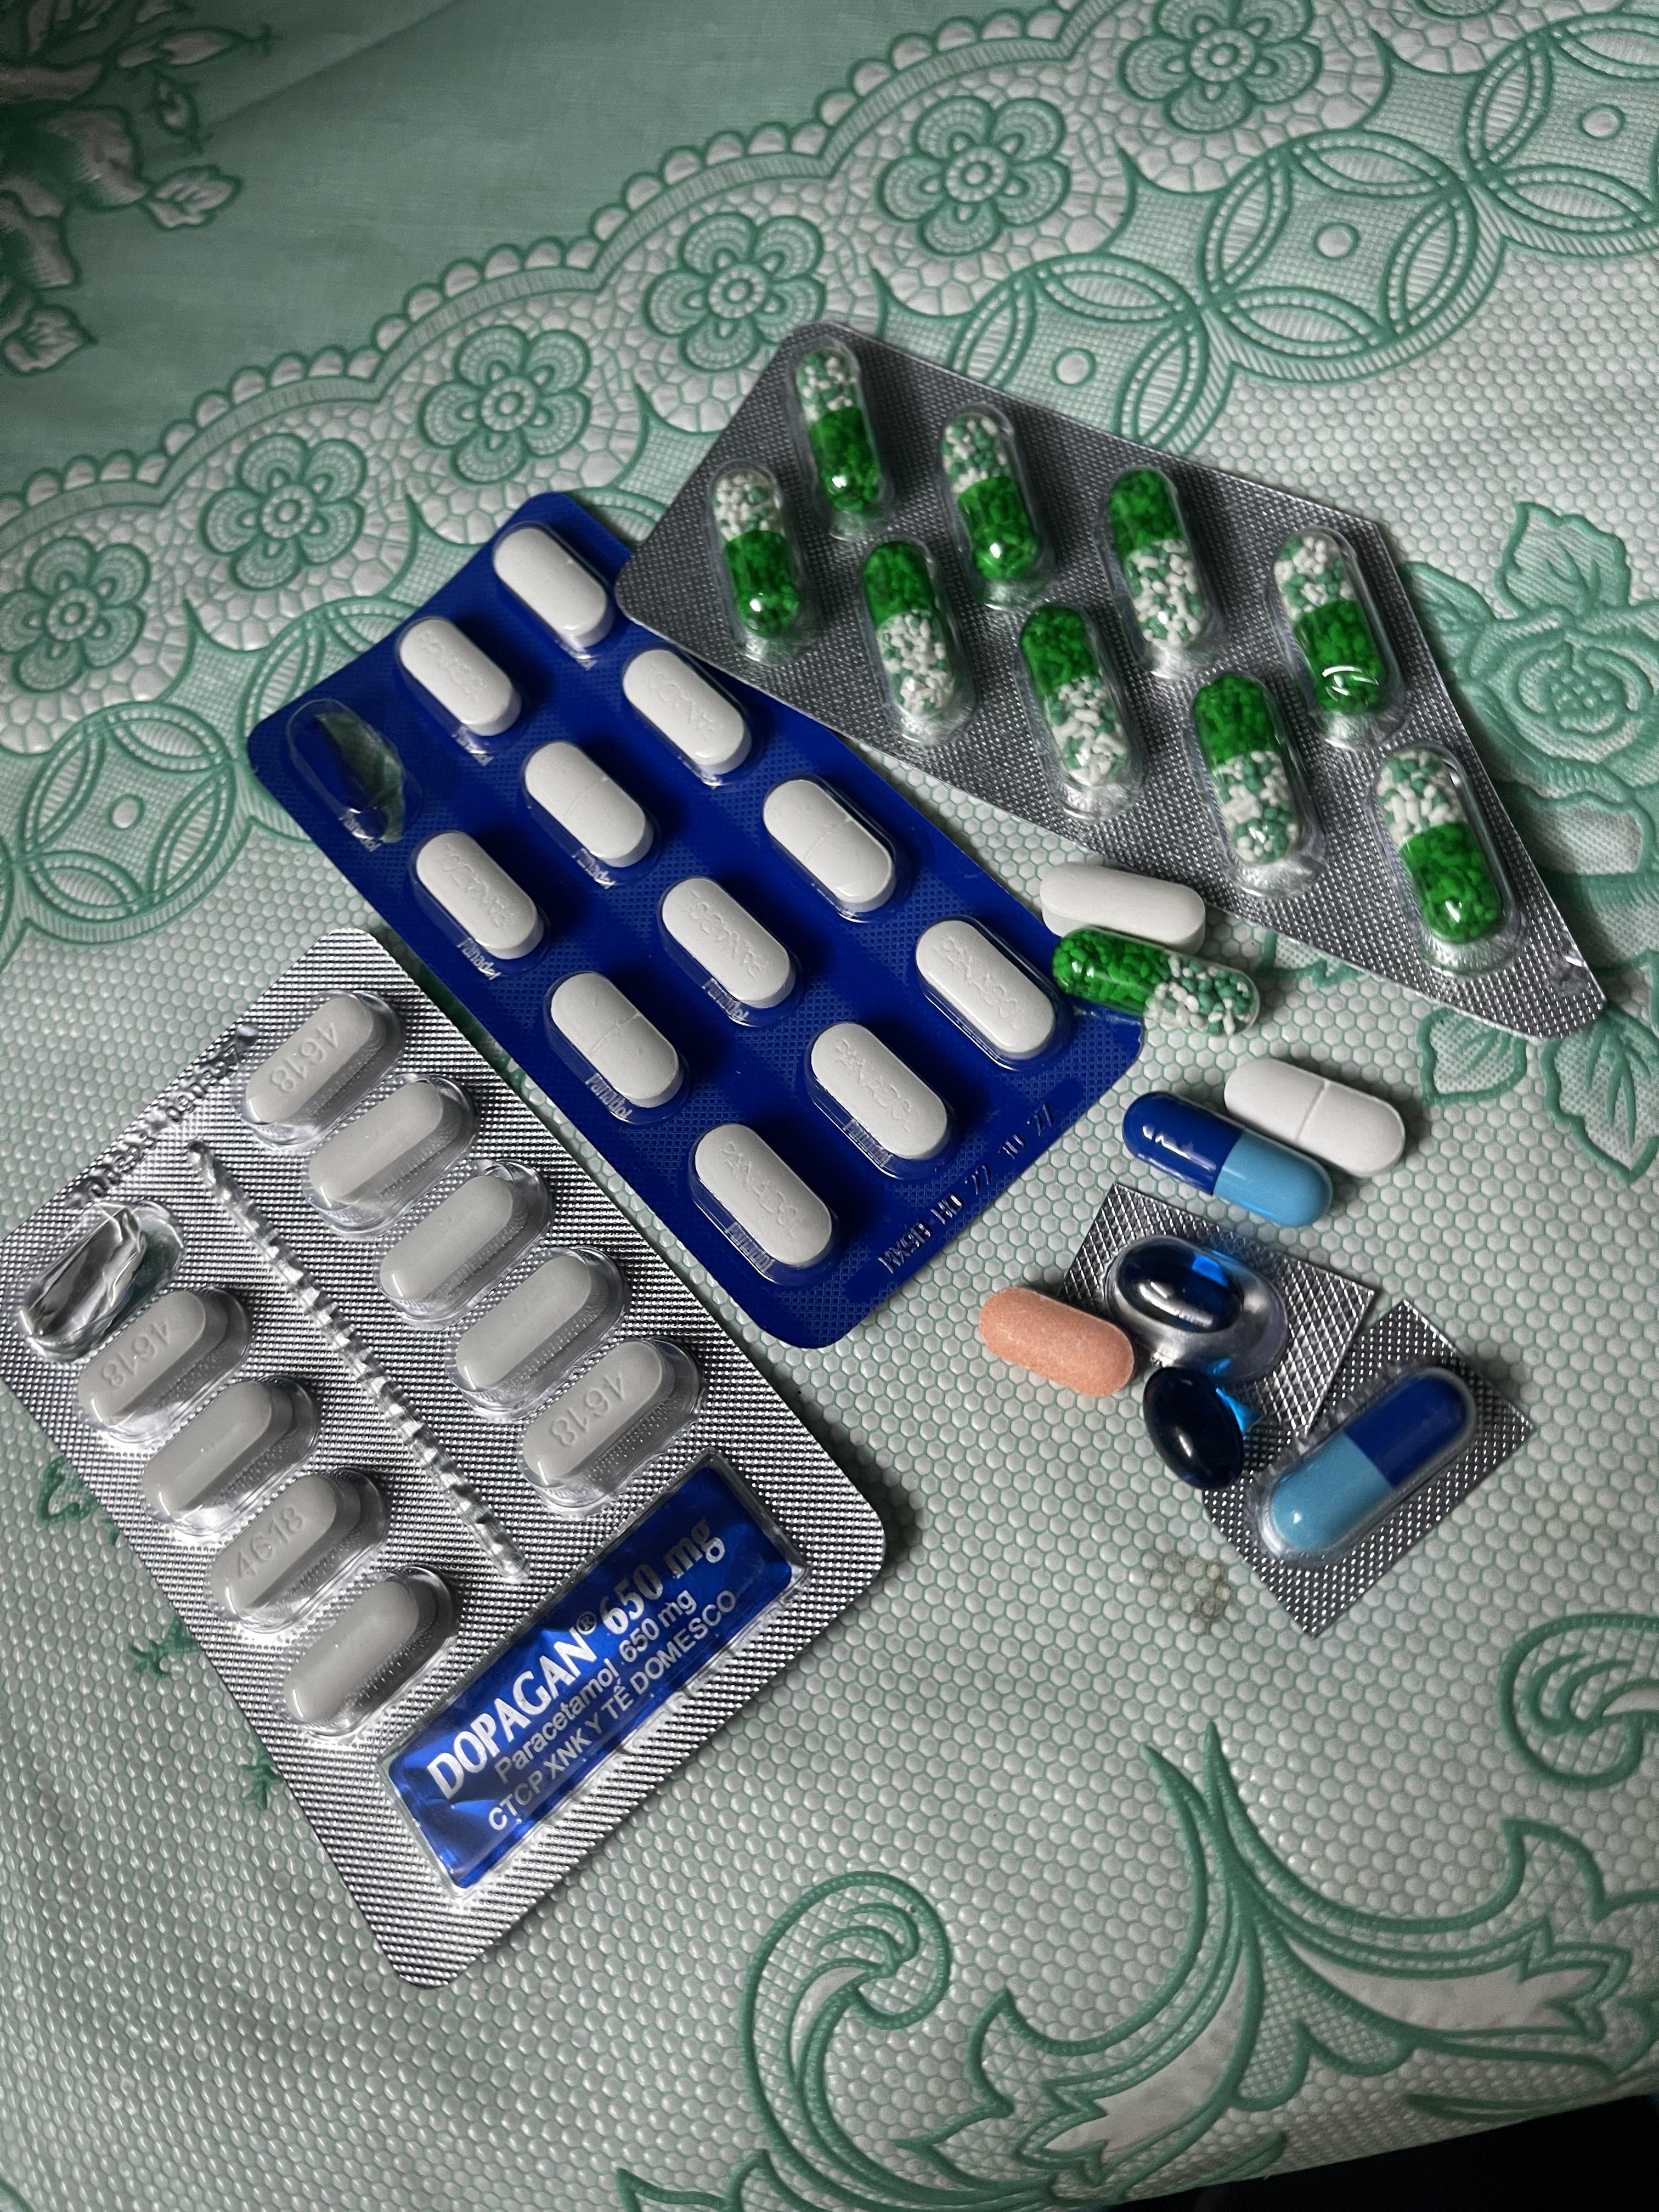Lincomyxin_500mg: (1143, 1367, 1253, 1491), (1121, 1233, 1248, 1336)
Loratadine_10mg: (976, 1287, 1133, 1395)
Paracetamol_350mg: (915, 920, 1065, 1069), (692, 1129, 838, 1277), (1227, 1054, 1408, 1170), (809, 1021, 951, 1167), (762, 777, 901, 920), (549, 972, 688, 1113), (660, 876, 796, 1017), (525, 742, 657, 876), (624, 650, 755, 784), (415, 833, 545, 967), (399, 618, 523, 742), (495, 526, 615, 651)
Paracetamol_500mg: (131, 1362, 314, 1534), (516, 1332, 694, 1508), (272, 1566, 453, 1735), (197, 1460, 378, 1625), (446, 1249, 627, 1413), (78, 1280, 246, 1442), (378, 1163, 549, 1317), (301, 1075, 467, 1223), (240, 989, 403, 1130), (1039, 862, 1197, 949)
Paracetamol_650mg: (1016, 603, 1148, 827), (1265, 523, 1399, 738), (1192, 672, 1309, 880), (1382, 751, 1502, 948), (1061, 927, 1253, 1038), (861, 543, 971, 737), (943, 416, 1040, 592), (1110, 474, 1204, 650), (714, 465, 803, 641), (800, 347, 885, 519)
pill: (1249, 1364, 1474, 1564), (1126, 1089, 1333, 1219)
